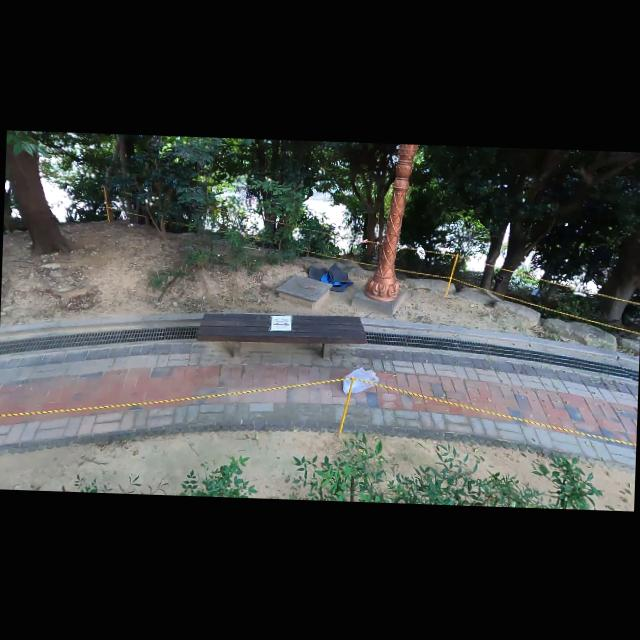trash: (303, 262, 356, 294), (342, 365, 380, 396)
